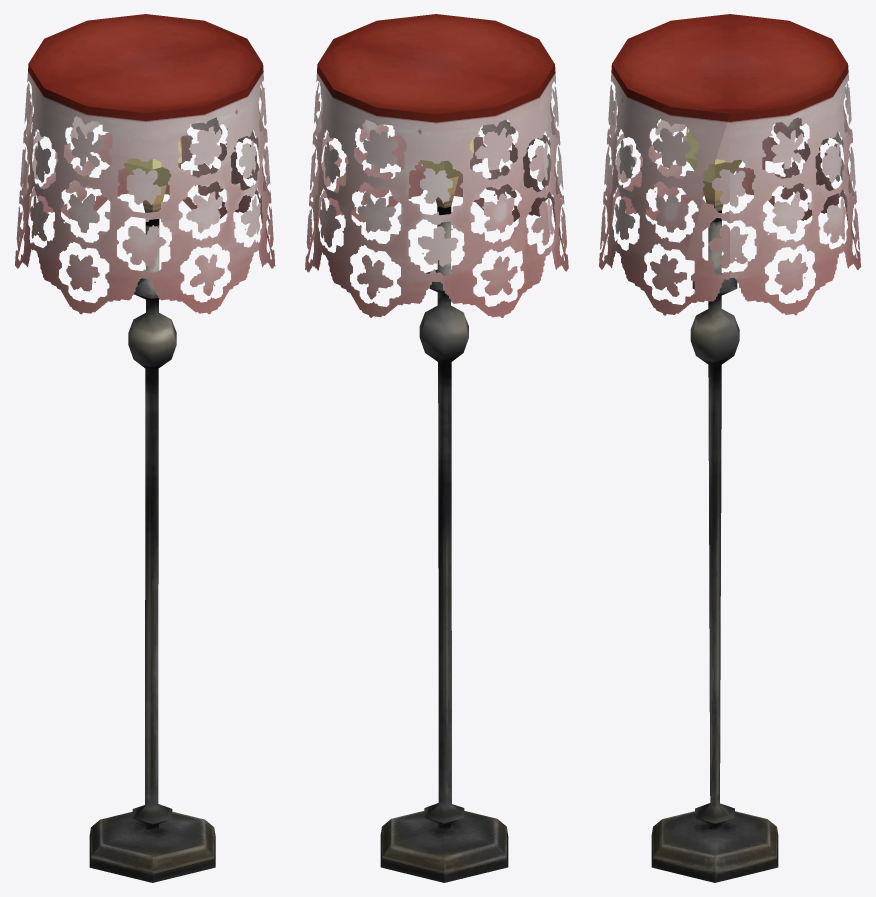
The model's file is furni_0201103_02.FBX.
3 renders of one model, left to right at view 1: azimuth 30°, elevation 25°; view 2: azimuth 150°, elevation 25°; view 3: azimuth 270°, elevation 25°, orthographic.
Parts seen in each view (by area): view 1: furni_0201103_02; view 2: furni_0201103_02; view 3: furni_0201103_02.
Boxes of the visible parts, x1,y1,x2,y2 form: furni_0201103_02: (15, 14, 275, 882); furni_0201103_02: (305, 14, 568, 882); furni_0201103_02: (599, 14, 860, 882).
Size of the model in its own units: 50 by 165 by 50.
Materials: 1 (1 with a texture image).
